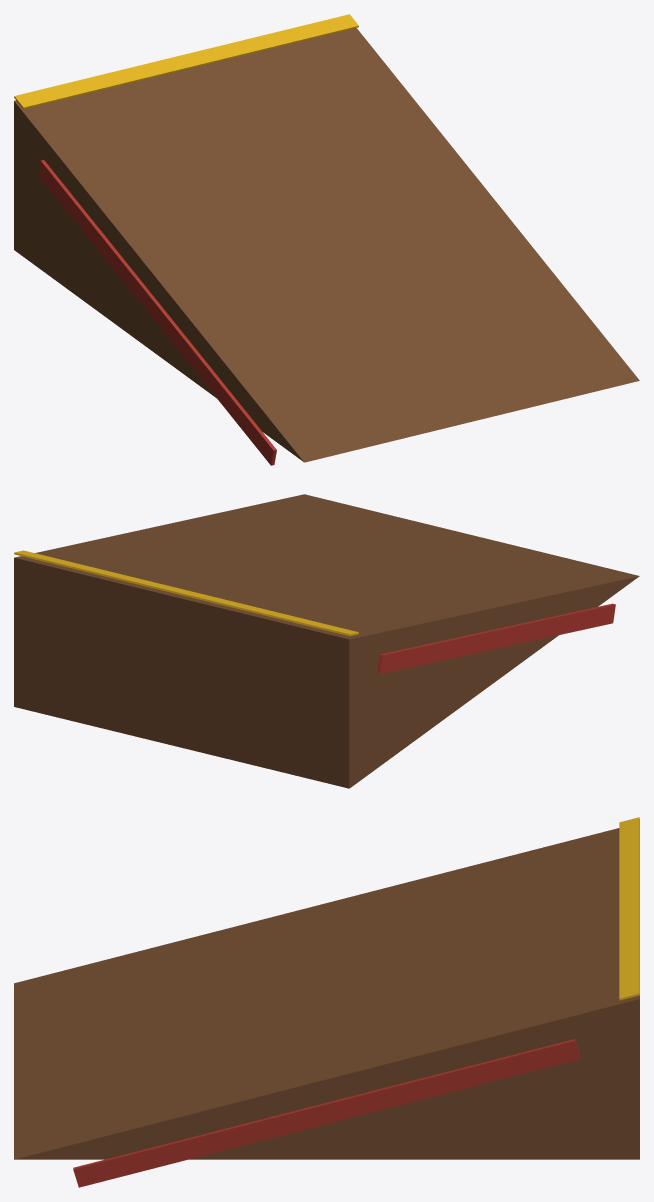
File: stunt_ramp.glb
The picture shows the model from 3 angles, top to bottom: view 1: azimuth 30°, elevation 25°; view 2: azimuth 150°, elevation 25°; view 3: azimuth 270°, elevation 25°; orthographic projection. The views are drawn at different scales.
Parts seen in each view (by area): view 1: stunt_ramp_Body; view 2: stunt_ramp_Body; view 3: stunt_ramp_Body.
Part boxes in pixels (x1=…): stunt_ramp_Body: x1=14, y1=14, x2=639, y2=465; stunt_ramp_Body: x1=14, y1=494, x2=639, y2=788; stunt_ramp_Body: x1=14, y1=817, x2=639, y2=1187.
Size of the model in its own units: 4.08 by 2.03 by 6.
